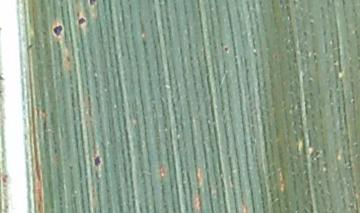tarspot: (51, 22, 64, 38), (92, 151, 102, 168), (76, 14, 87, 27), (222, 42, 229, 53), (84, 1, 98, 6)
